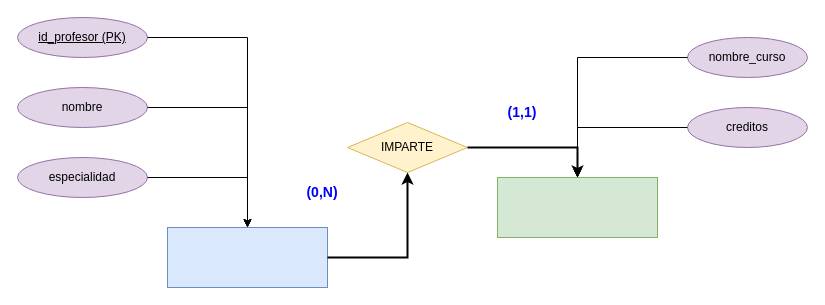
Some shapes in this 825 by 305 pixel diagram are drawn without their labels. The shapes that lost their labels are listed below. From the top down, each one's box as (x1, y1, x2, y2) in pixels, then its label:
(496, 176, 658, 238): CURSO
(166, 226, 328, 288): PROFESOR
